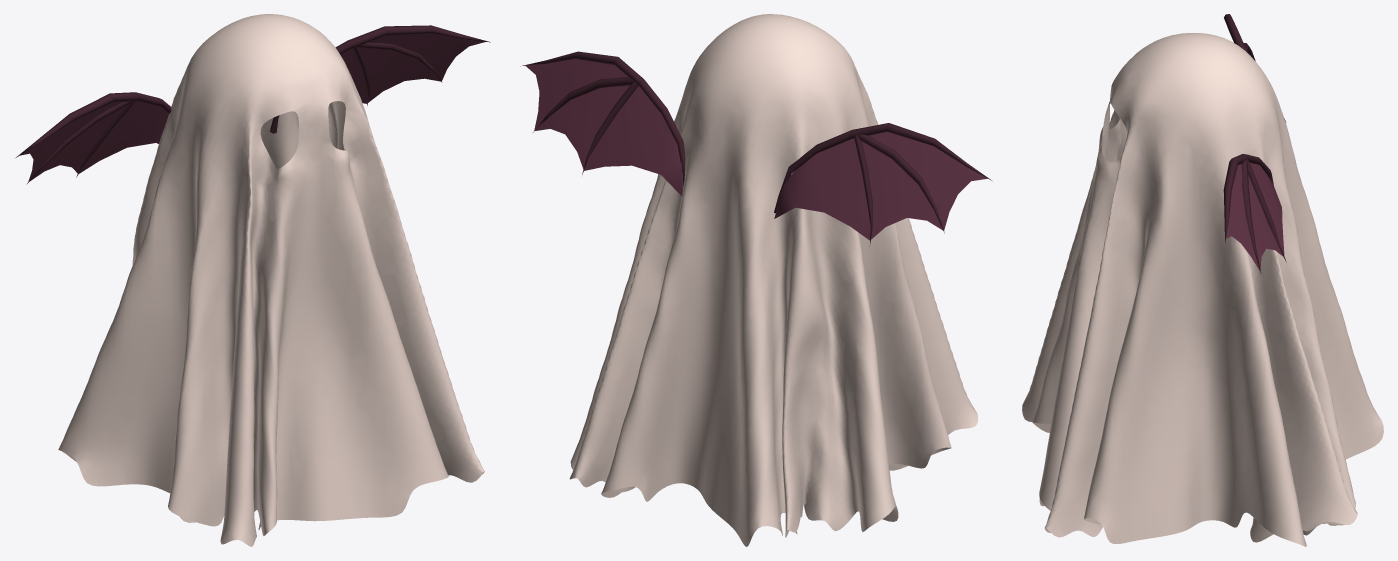
Rendered from GhostBat.fbx.
3 renders of one model, left to right at view 1: azimuth 30°, elevation 25°; view 2: azimuth 150°, elevation 25°; view 3: azimuth 270°, elevation 25°, orthographic.
Visible parts, largest first — view 1: Plane.006; view 2: Plane.006; view 3: Plane.006.
Part boxes in pixels (x1,y1,x2,y2): Plane.006: [16, 14, 490, 546]; Plane.006: [520, 14, 991, 546]; Plane.006: [1022, 14, 1383, 546].
Size of the model in its own units: 151 by 139 by 101.
